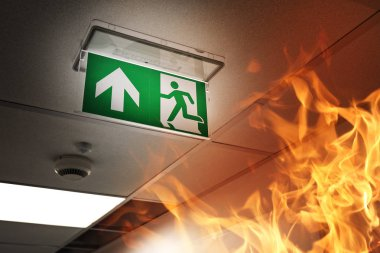fire: (263, 71, 372, 248)
